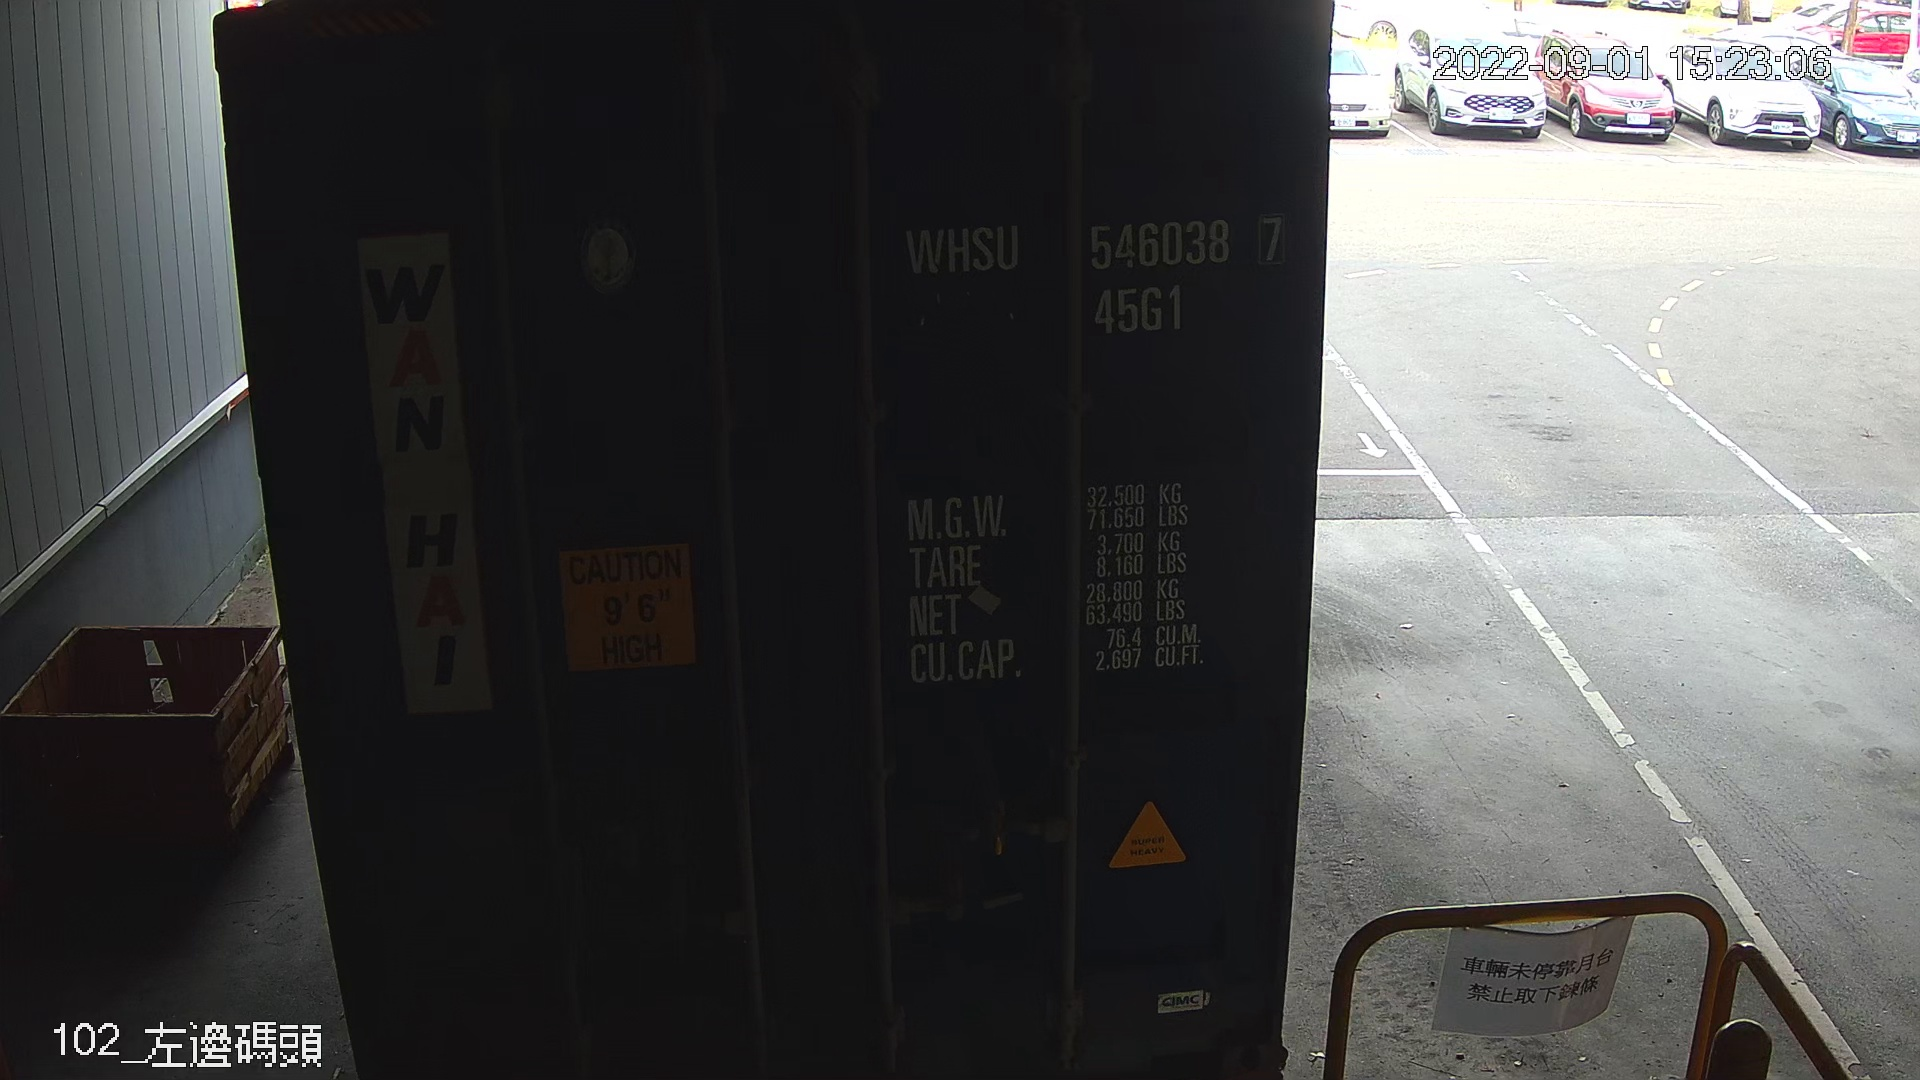container: (891, 204, 1298, 349)
